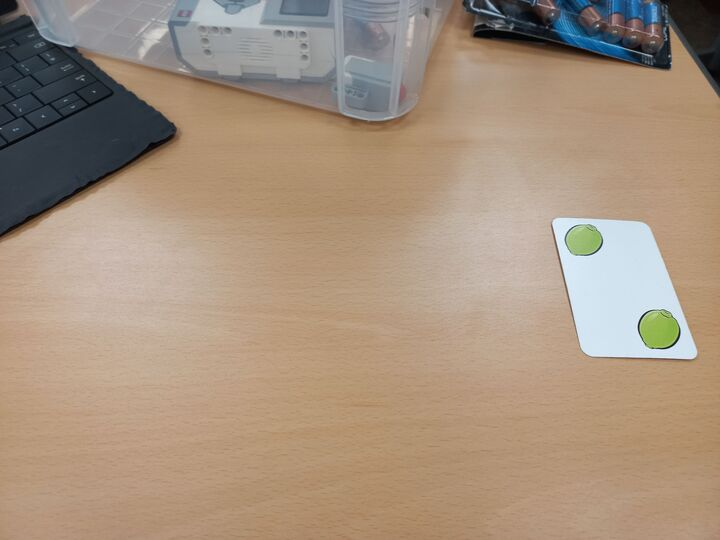lime2: (550, 216, 701, 363)
